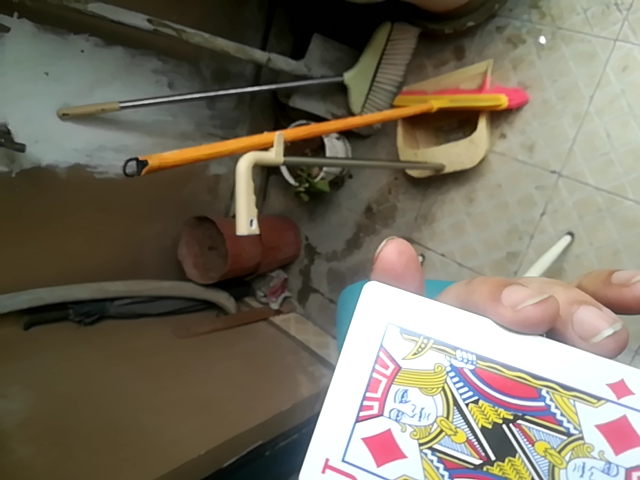fk j: (287, 283, 640, 480)
